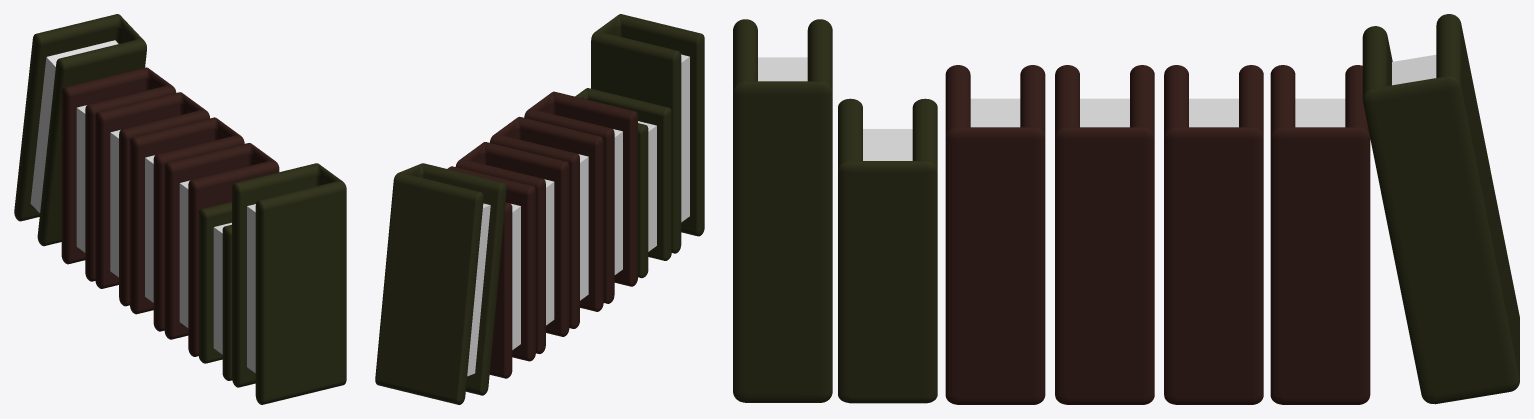
The model's file is book_2.fbx.
The picture shows the model from 3 angles, left to right: view 1: azimuth 30°, elevation 25°; view 2: azimuth 150°, elevation 25°; view 3: azimuth 270°, elevation 25°; orthographic projection. The views are drawn at different scales.
Visible parts, largest first — view 1: Plane.009, Plane.007, Plane.049, Plane.001, Plane.003, Plane.005, Plane.042, Plane.008, Plane.010, Plane.006, Plane.048, Plane.002 (+2 smaller); view 2: Plane.007, Plane.009, Plane.049, Plane.001, Plane.003, Plane.005, Plane.042, Plane.010, Plane.008, Plane.048, Plane.006, Plane.002 (+2 smaller); view 3: Plane.007, Plane.009, Plane.049, Plane.003, Plane.001, Plane.005, Plane.042, Plane.041, Plane.006, Plane.048, Plane.002, Plane.004 (+2 smaller).
Boxes of the visible parts, x1,y1,x2,y2 form: Plane.009: (232, 163, 346, 404); Plane.007: (14, 14, 146, 246); Plane.049: (164, 143, 279, 356); Plane.001: (130, 117, 244, 331); Plane.003: (95, 92, 209, 306); Plane.005: (61, 67, 176, 281); Plane.042: (199, 201, 232, 380); Plane.008: (30, 40, 118, 212); Plane.010: (247, 204, 255, 373); Plane.006: (76, 105, 86, 252); Plane.048: (179, 180, 189, 327); Plane.002: (145, 155, 154, 302); Plane.007: (375, 163, 506, 404); Plane.009: (591, 14, 704, 253); Plane.049: (524, 91, 637, 303); Plane.001: (490, 116, 603, 328); Plane.003: (455, 142, 569, 353); Plane.005: (447, 166, 535, 378); Plane.042: (575, 88, 671, 278); Plane.010: (681, 54, 689, 222); Plane.008: (467, 203, 490, 376); Plane.048: (613, 129, 622, 274); Plane.006: (511, 204, 520, 349); Plane.002: (578, 154, 588, 300); Plane.007: (1362, 14, 1519, 404); Plane.009: (733, 19, 832, 402); Plane.049: (945, 65, 1045, 404); Plane.003: (1164, 65, 1263, 404); Plane.001: (1055, 65, 1154, 404); Plane.005: (1270, 65, 1370, 404); Plane.042: (838, 98, 937, 403); Plane.041: (863, 129, 912, 160); Plane.006: (1295, 98, 1345, 127); Plane.048: (970, 98, 1020, 127); Plane.002: (1080, 98, 1129, 127); Plane.004: (1189, 98, 1238, 127).
Size of the model in its own units: 56.42 by 129 by 280.
